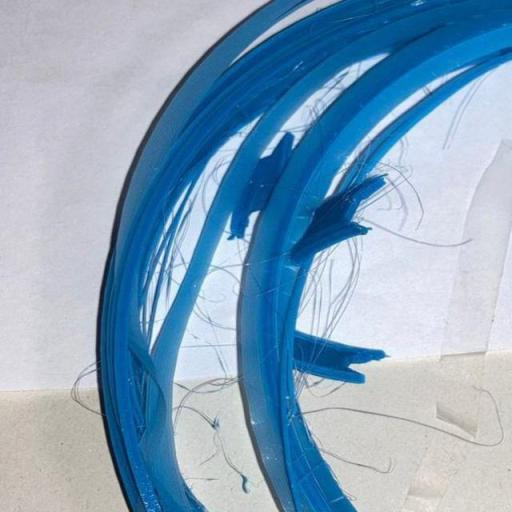stringing: (308, 244, 357, 338), (176, 370, 234, 436), (154, 229, 184, 294), (206, 260, 244, 284)
